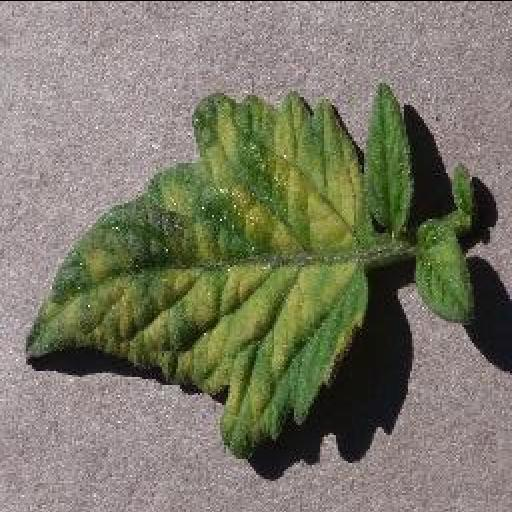disease_tomato: (20, 78, 414, 458)
